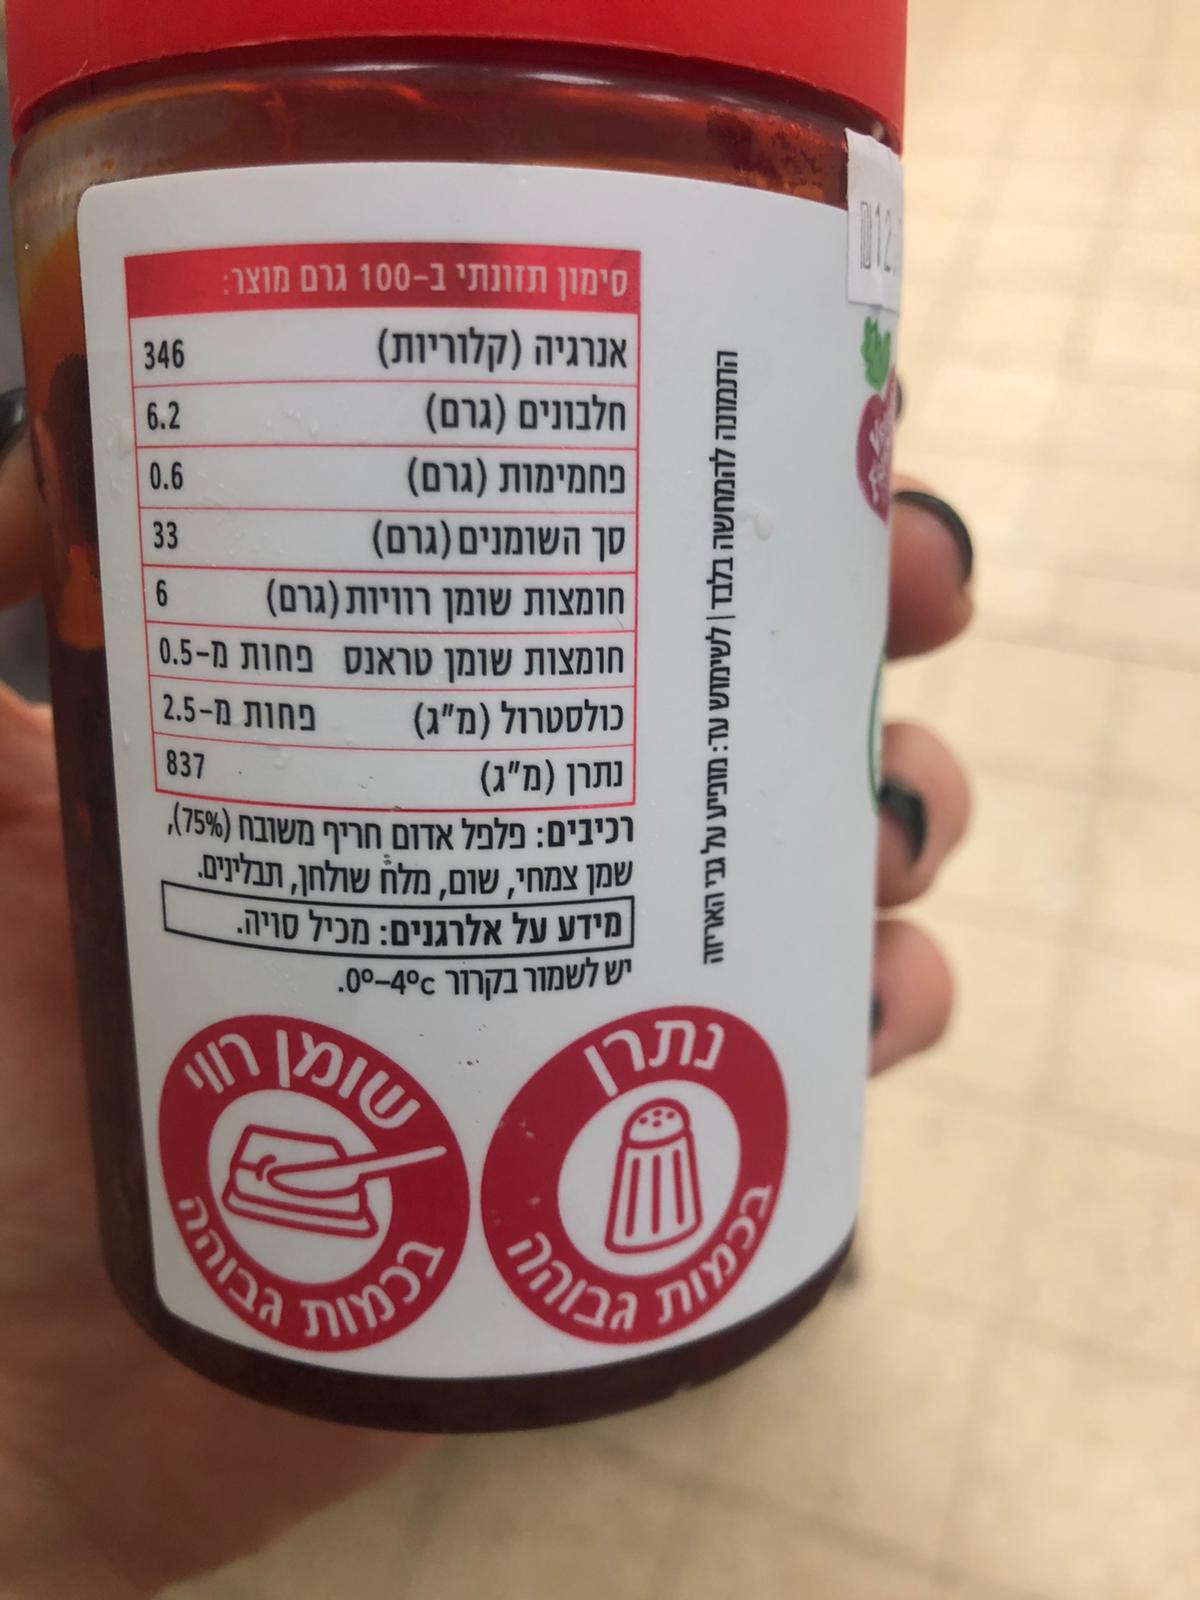fat: (158, 1013, 482, 1358)
salt: (476, 1005, 795, 1353)
